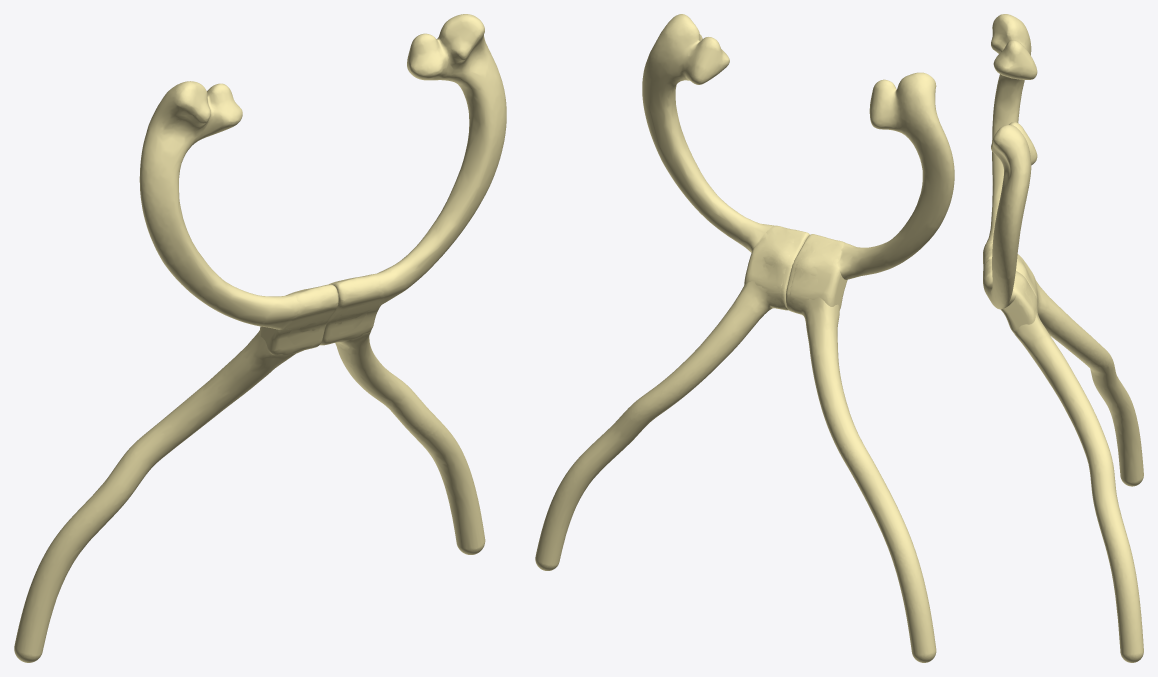
File: orbite-nerfs.glb
3 renders of one model, left to right at view 1: azimuth 30°, elevation 25°; view 2: azimuth 150°, elevation 25°; view 3: azimuth 270°, elevation 25°, orthographic. The views are drawn at different scales.
Visible parts, largest first — view 1: tractus_optique_droit, nerf_optique_ii_droit, tractus_optique_gauche, nerf_optique_ii_gauche, chiasma_optique; view 2: nerf_optique_ii_droit, tractus_optique_gauche, nerf_optique_ii_gauche, tractus_optique_droit, chiasma_optique; view 3: nerf_optique_ii_gauche, nerf_optique_ii_droit, tractus_optique_gauche, tractus_optique_droit, chiasma_optique.
Part boxes in pixels (box(x1,y1,x2,y2)): tractus_optique_droit: box(139, 81, 327, 331); nerf_optique_ii_droit: box(14, 320, 323, 662); tractus_optique_gauche: box(330, 14, 506, 324); nerf_optique_ii_gauche: box(330, 312, 485, 554); chiasma_optique: box(259, 274, 384, 355); nerf_optique_ii_droit: box(789, 258, 936, 662); tractus_optique_gauche: box(642, 14, 797, 267); nerf_optique_ii_gauche: box(535, 255, 789, 570); tractus_optique_droit: box(799, 72, 954, 279); chiasma_optique: box(744, 225, 847, 314); nerf_optique_ii_gauche: box(1014, 273, 1143, 662); nerf_optique_ii_droit: box(1018, 267, 1143, 486); tractus_optique_gauche: box(983, 122, 1037, 309); tractus_optique_droit: box(983, 14, 1037, 277); chiasma_optique: box(983, 242, 1037, 333).
Size of the model in its own units: 61.62 by 77.5 by 22.48.
